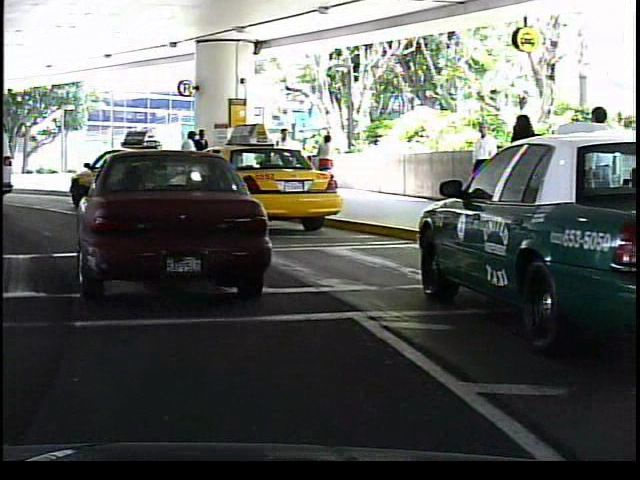person: (499, 108, 551, 252), (574, 98, 621, 245), (465, 115, 499, 215), (269, 123, 296, 193), (176, 130, 201, 194), (311, 130, 336, 189), (194, 127, 213, 192)
